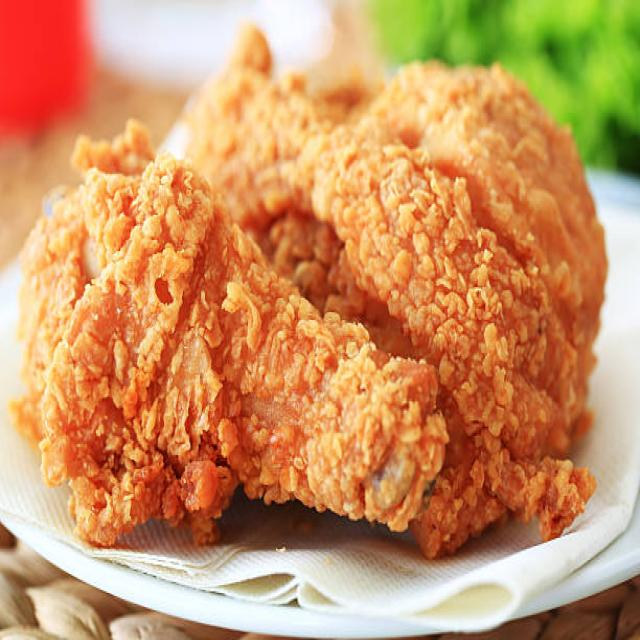Frango: (7, 19, 611, 565)
